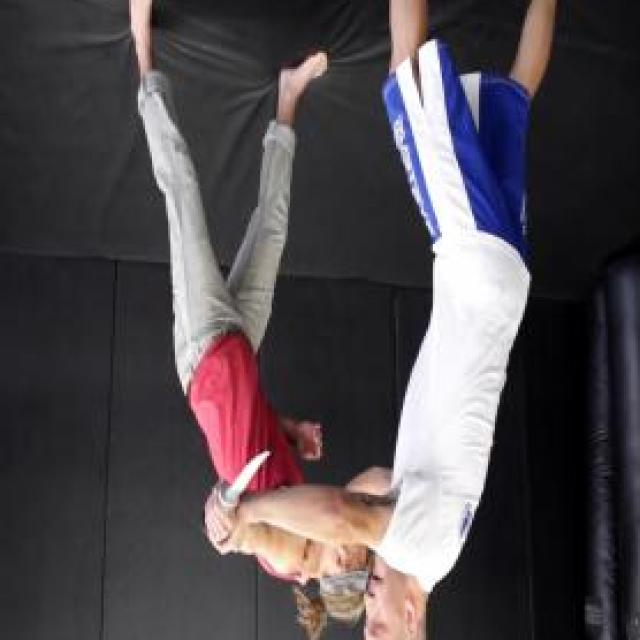knife: (196, 439, 275, 538)
